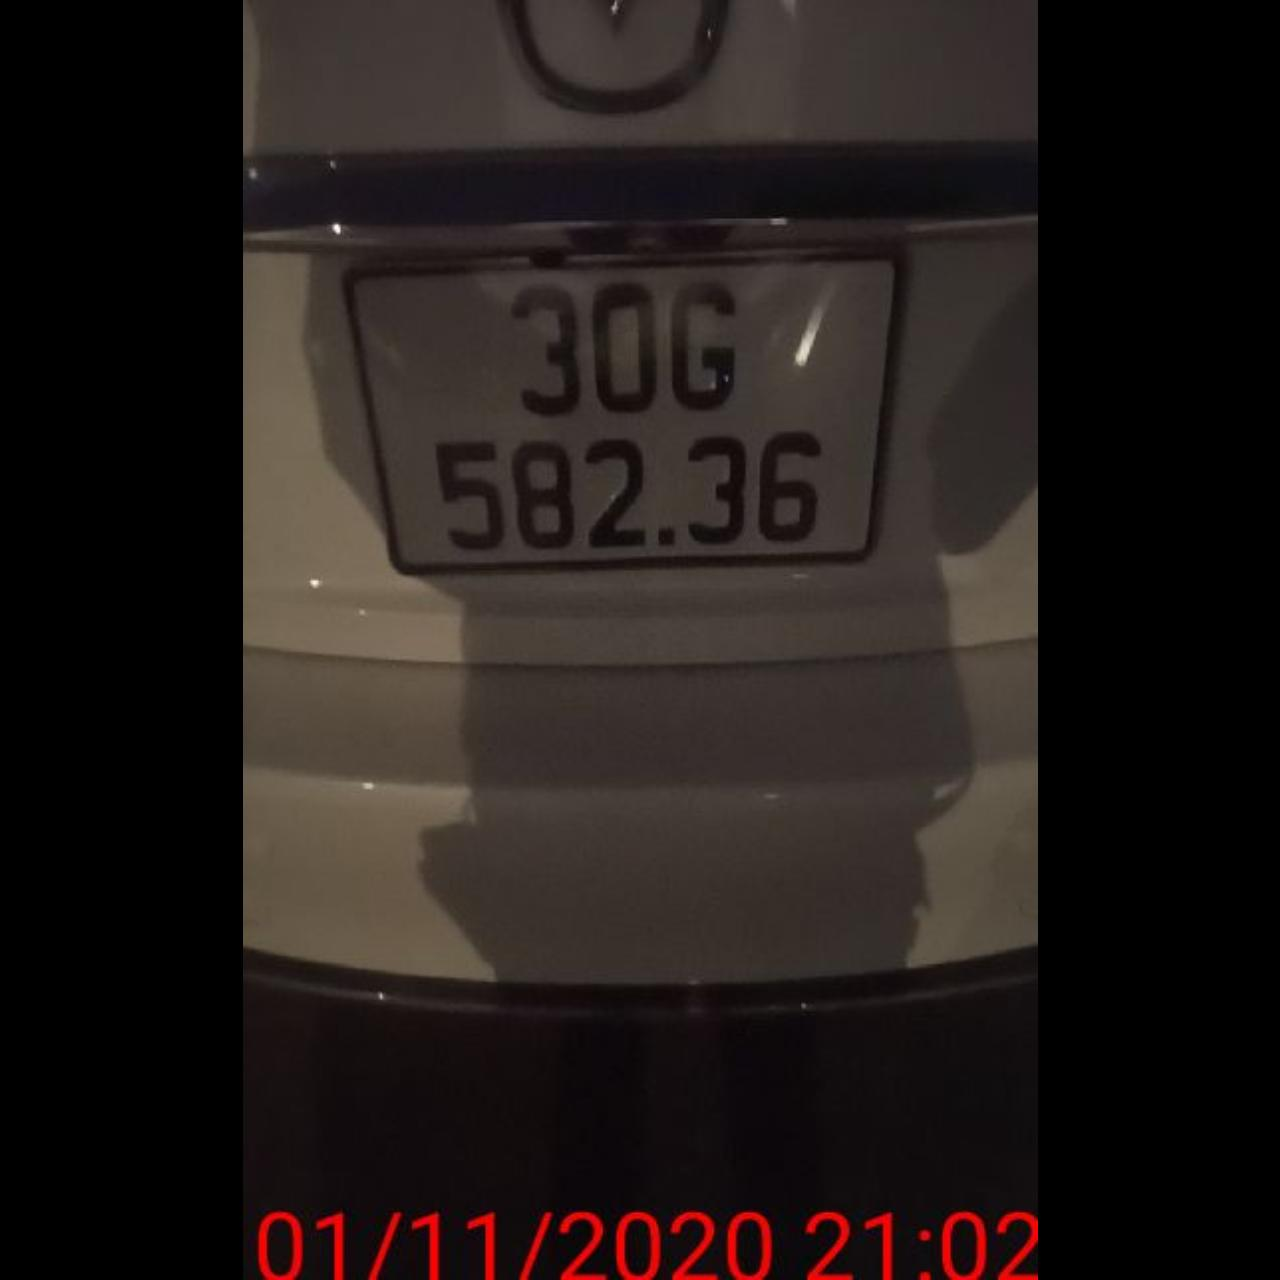bienso: (339, 239, 913, 583)
